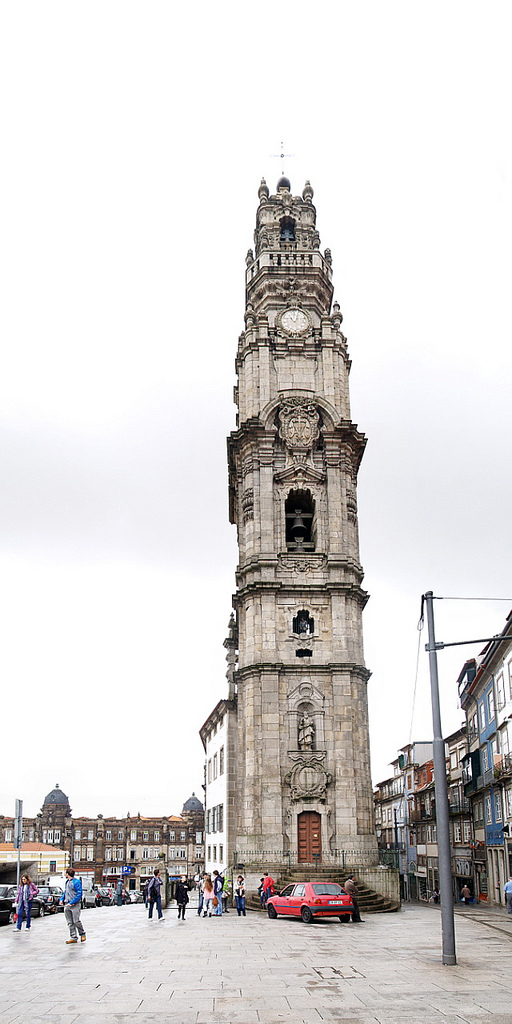clerigos: (222, 129, 380, 868)
